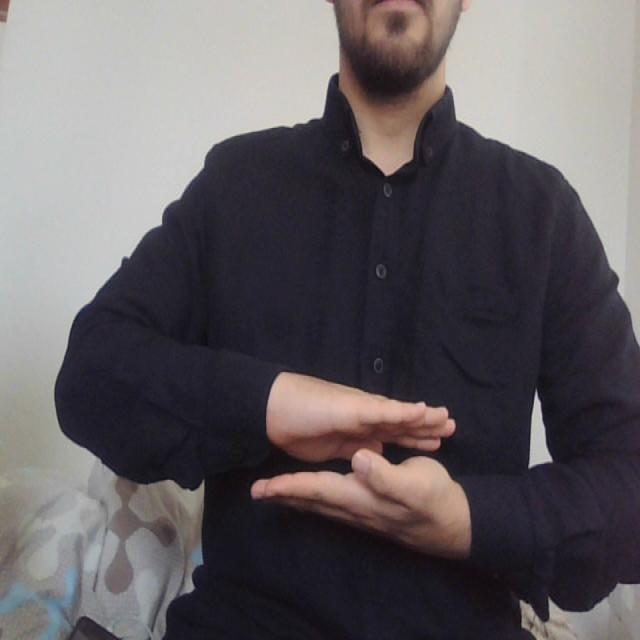Arkadas: (212, 355, 484, 571)
